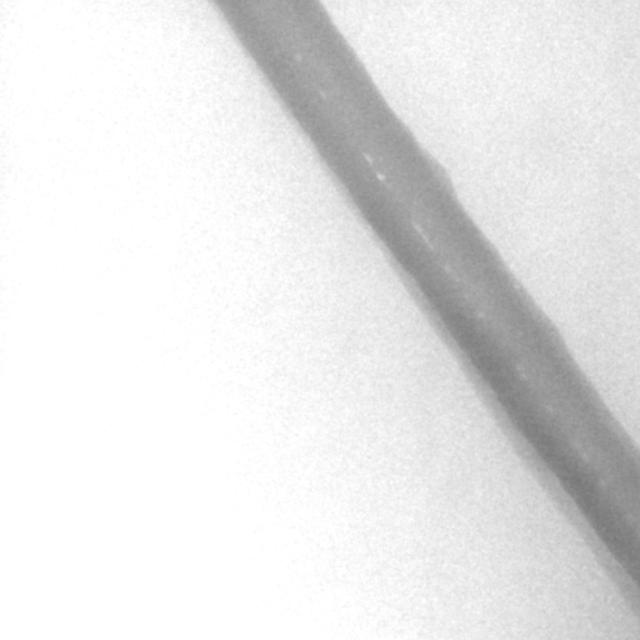air hole: (374, 168, 387, 184), (361, 149, 372, 165)
